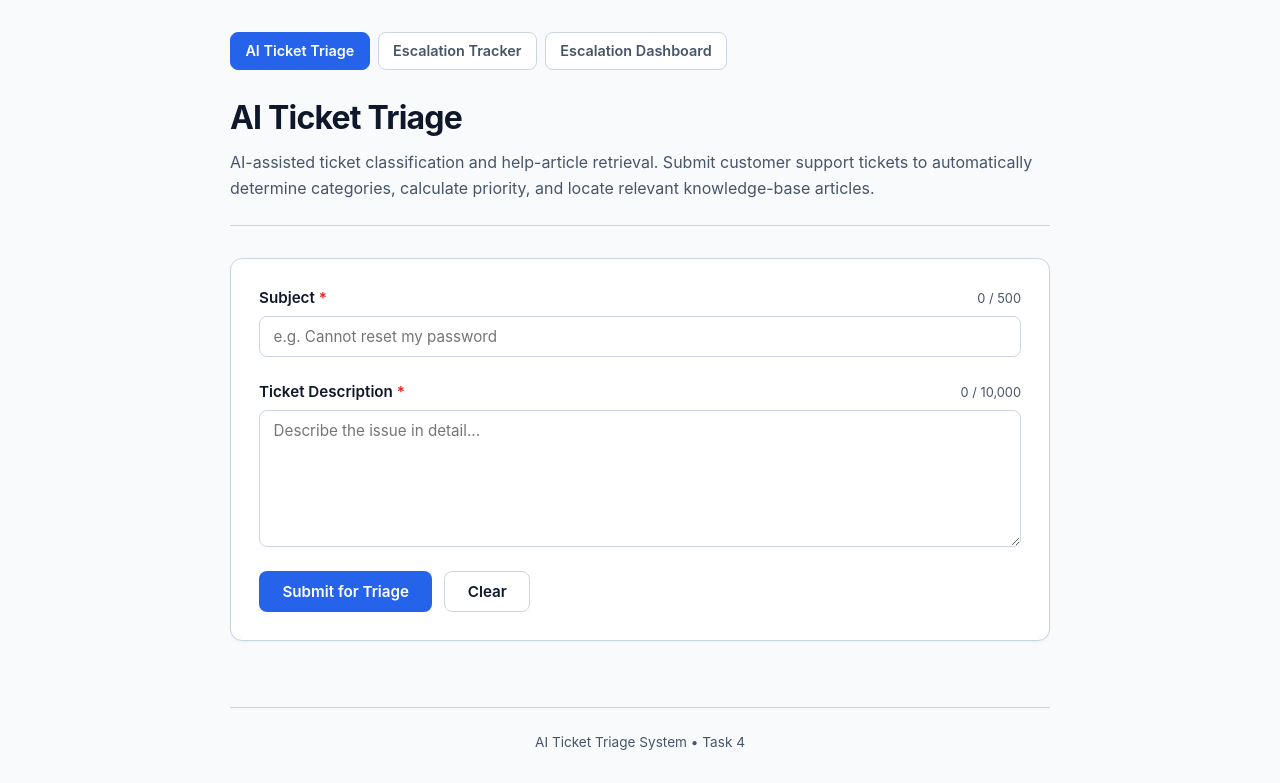
it: Escalation Tracker › opens from the navigation and keeps the triage page as the default
Expected: the heading "AI Ticket Triage" is shown, x1=230 y1=98 x2=462 y2=137
What coordinates should you click on to do the following:
click the link "Escalation Tracker"
I would click on:
 (457, 51)
Its box is x1=378 y1=32 x2=537 y2=70.
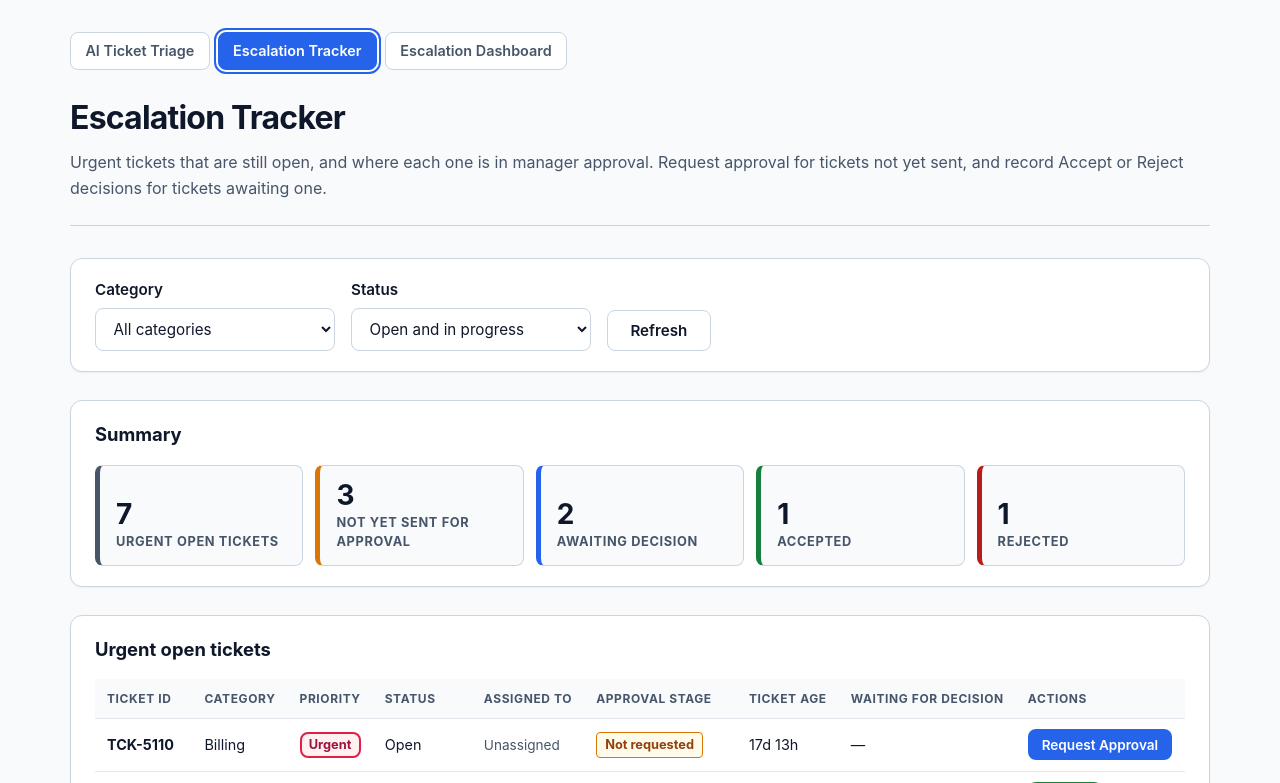
Expected: the heading "Escalation Tracker" is shown, x1=70 y1=98 x2=345 y2=137
Expected: the row with test id "ticket-row-TCK-5110" is shown, x1=95 y1=719 x2=1185 y2=771
